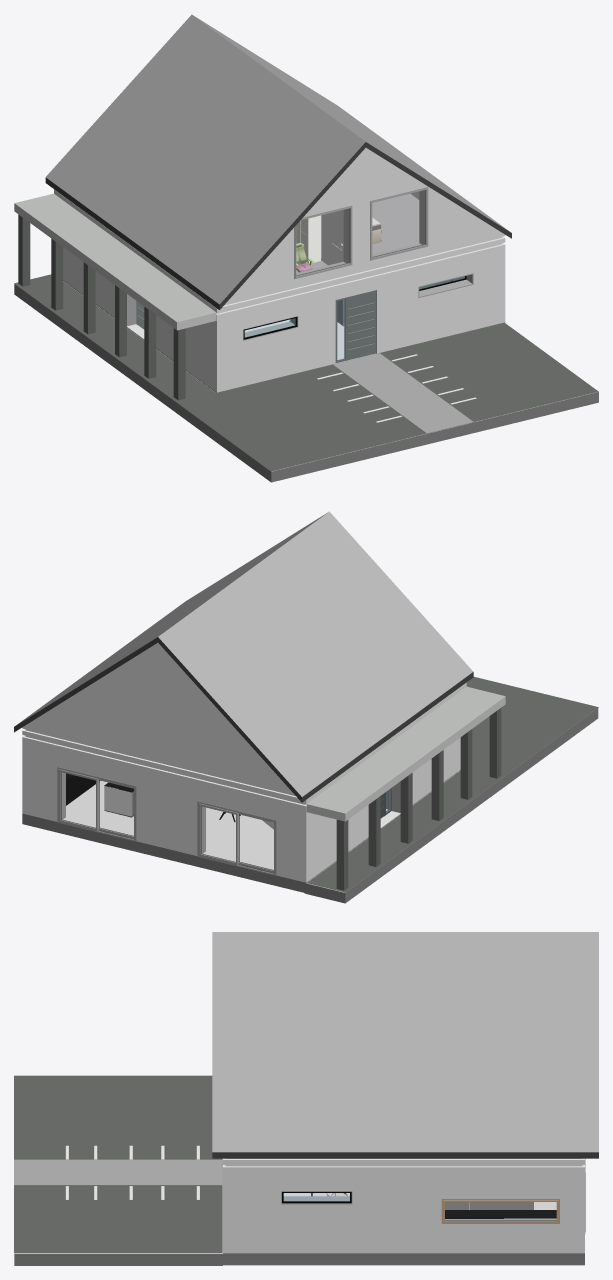
Rendered from house.glb.
3 views of the same model, one above another, from view 1: azimuth 30°, elevation 25°; view 2: azimuth 150°, elevation 25°; view 3: azimuth 270°, elevation 25° (orthographic). The views are drawn at different scales.
Visible parts, largest first — view 1: Wall Murs <155596 Ext?rieur - Rendu sur brique sur bloc<; view 2: Wall Murs <155596 Ext?rieur - Rendu sur brique sur bloc<; view 3: Wall Murs <155596 Ext?rieur - Rendu sur brique sur bloc<.
Boxes of the visible parts, x1,y1,x2,y2 form: Wall Murs <155596 Ext?rieur - Rendu sur brique sur bloc<: [14, 14, 598, 482]; Wall Murs <155596 Ext?rieur - Rendu sur brique sur bloc<: [14, 511, 598, 903]; Wall Murs <155596 Ext?rieur - Rendu sur brique sur bloc<: [14, 932, 598, 1265].
Size of the model in its own units: 11978 by 7982 by 16533.
2 materials, 2 textured.
